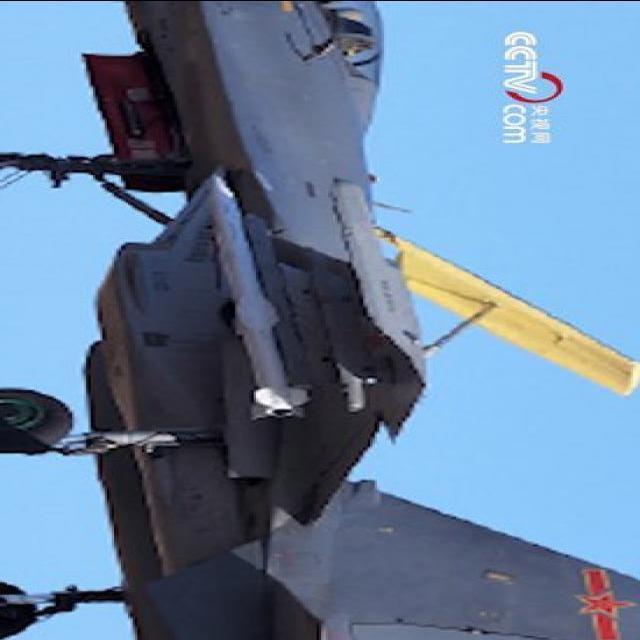missile: (200, 166, 304, 430)
